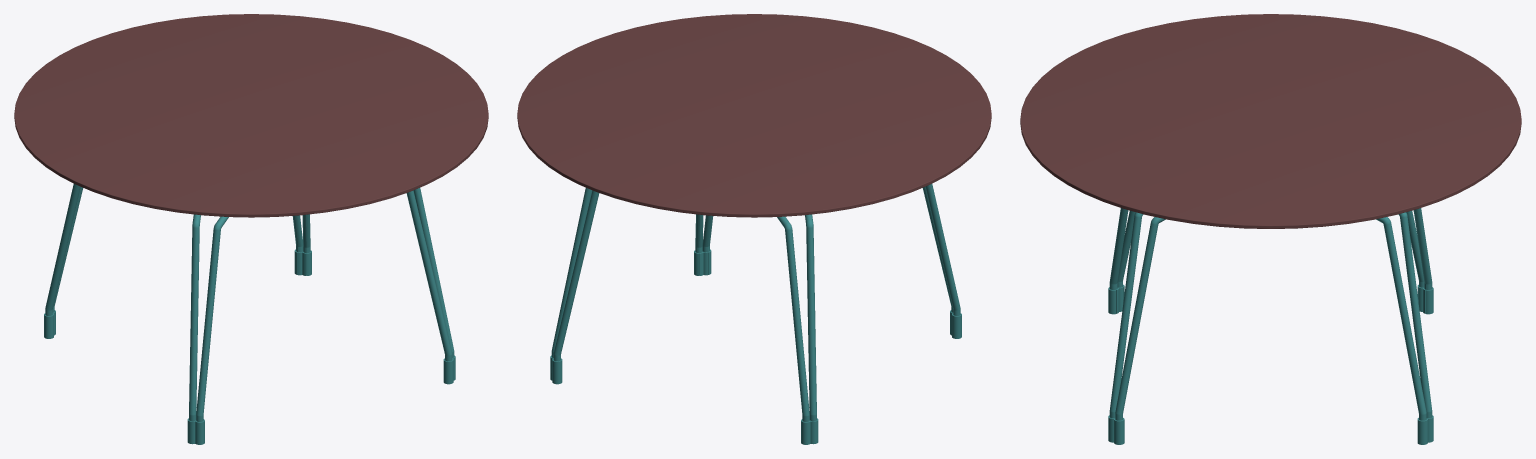
The model's file is DinningTable.fbx.
The picture shows the model from 3 angles, left to right: view 1: azimuth 30°, elevation 25°; view 2: azimuth 150°, elevation 25°; view 3: azimuth 270°, elevation 25°; orthographic projection. The views are drawn at different scales.
Parts seen in each view (by area): view 1: DinningTable; view 2: DinningTable; view 3: DinningTable.
Boxes of the visible parts, x1,y1,x2,y2 form: DinningTable: (14,14,488,444); DinningTable: (517,14,991,444); DinningTable: (1020,14,1521,444).
Size of the model in its own units: 115 by 65.05 by 115.
